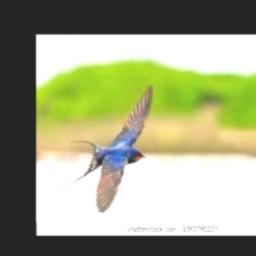Swallow: (62, 82, 153, 213)
